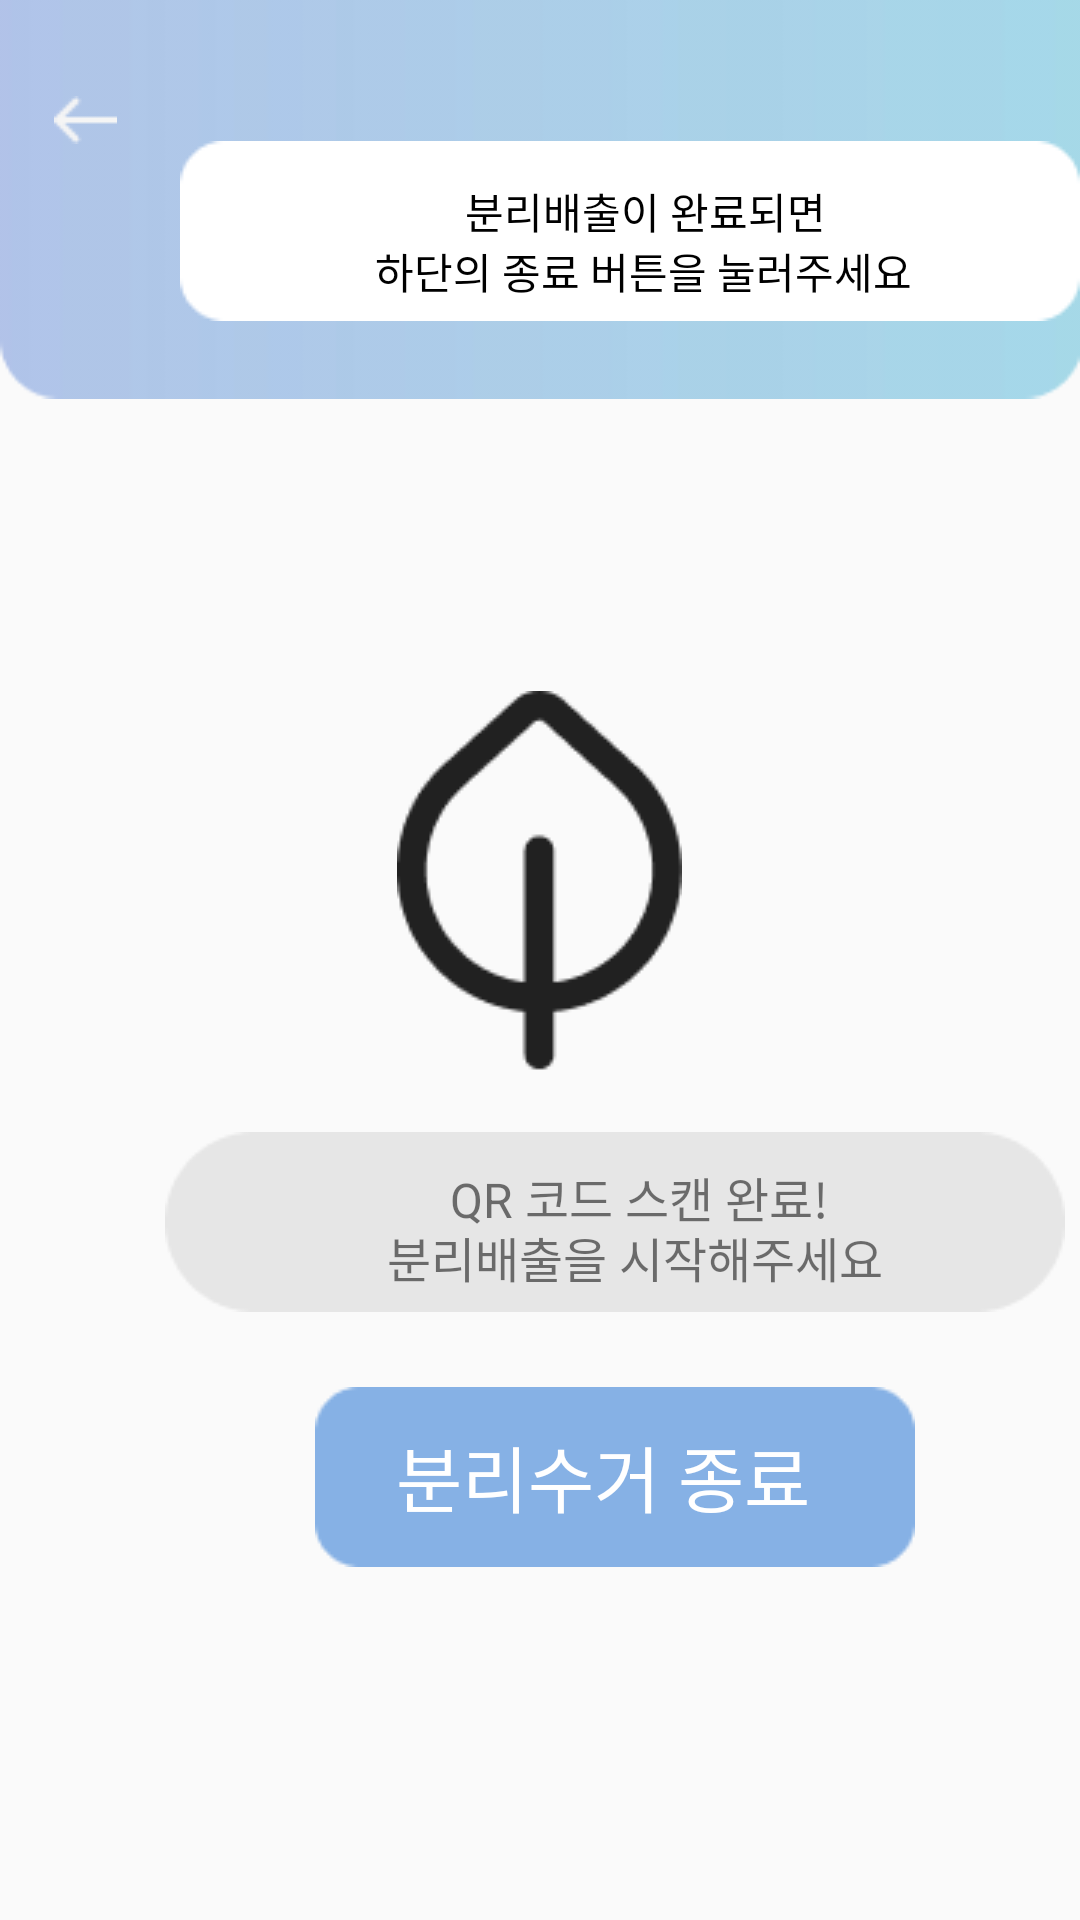

Where to tap for icons on this 1080x1920 app screen, as (x,y):
arrow: (85,120)
